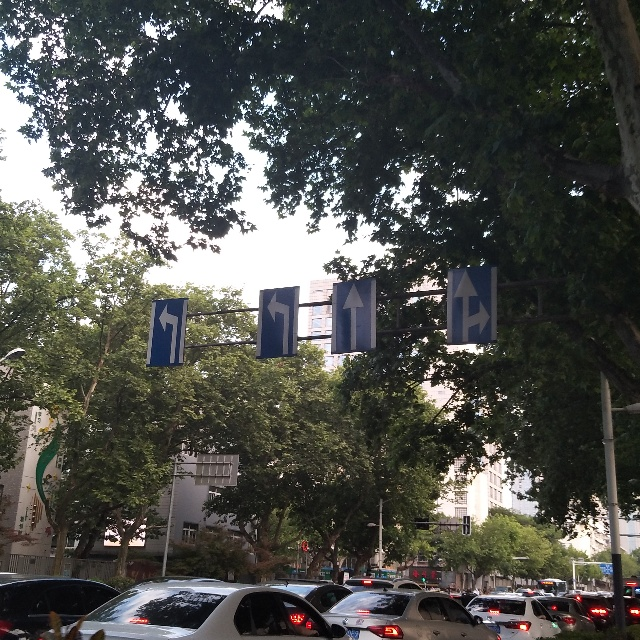left: (141, 297, 189, 369), (259, 287, 300, 360)
straight: (332, 278, 378, 357)
